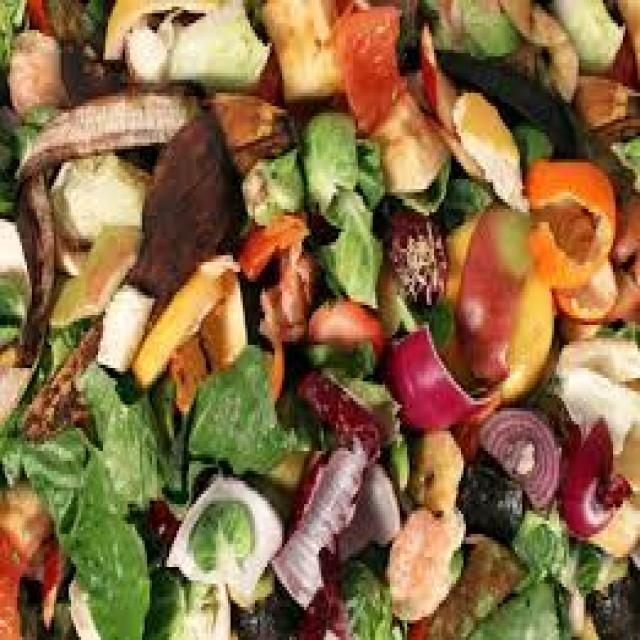food_waste: (41, 38, 595, 615)
